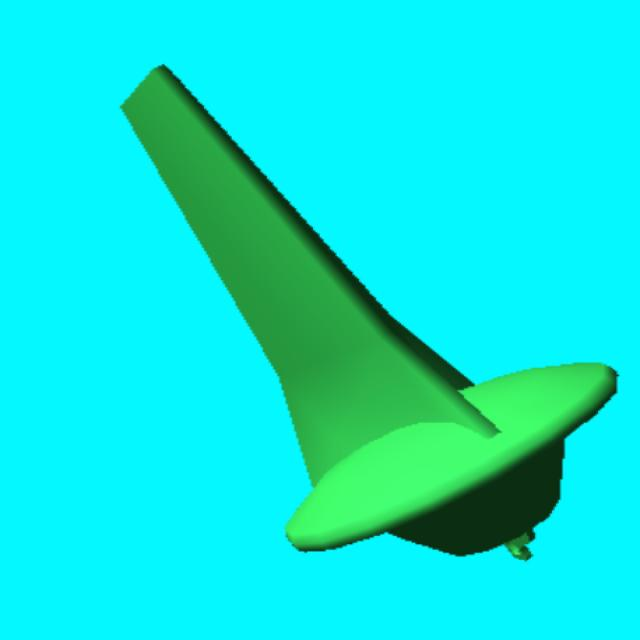GreenBuoy: (122, 68, 614, 558), (122, 68, 614, 558)
